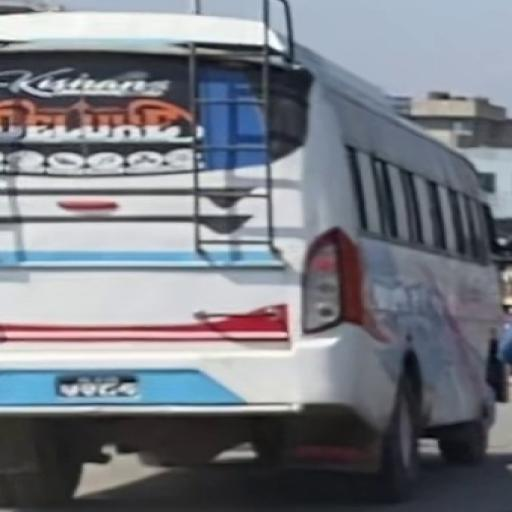license_plate: (51, 371, 143, 402)
